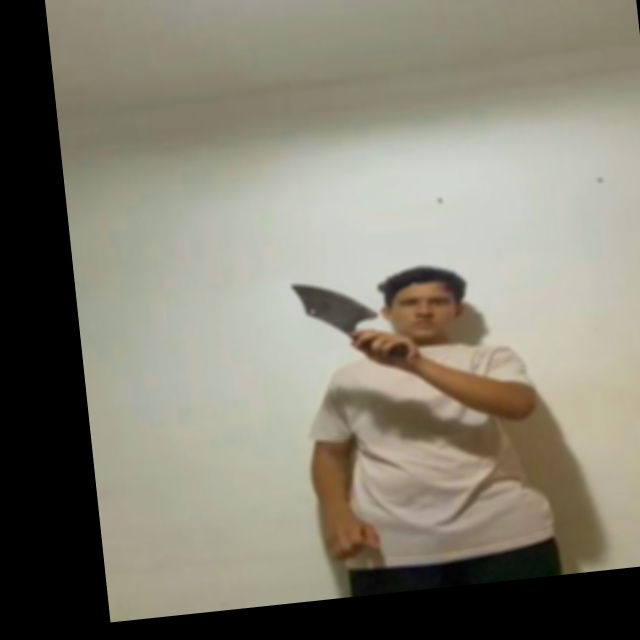Sharp-Object: (295, 275, 375, 332)
